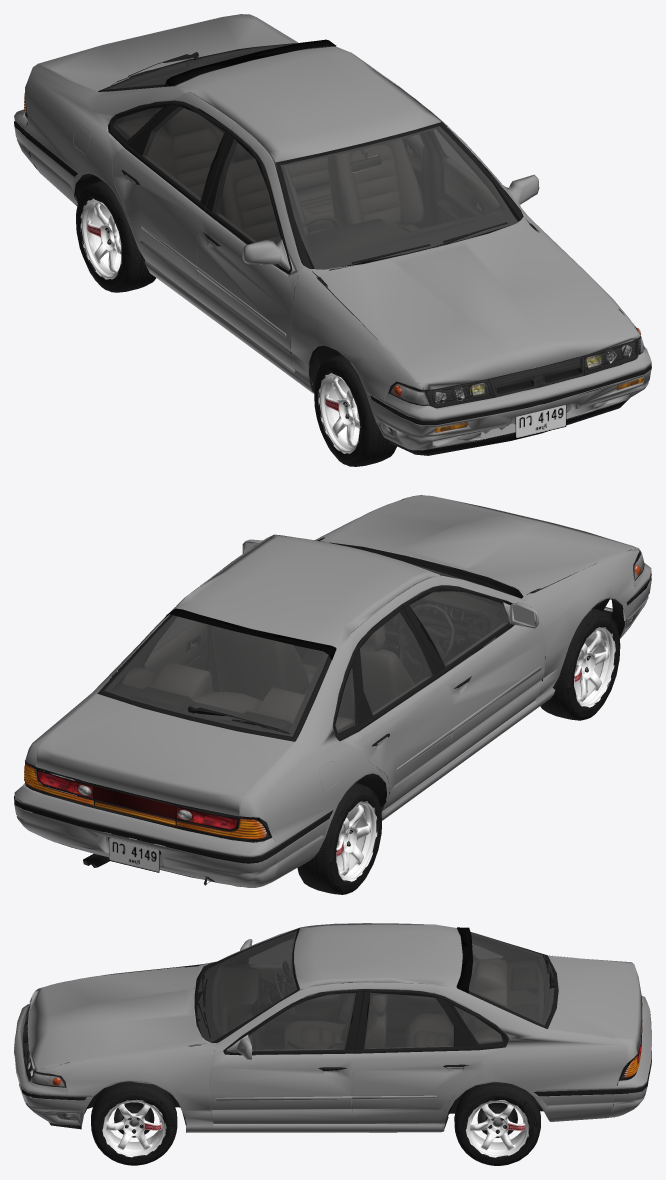
Rendered from saloon.glb.
3 views of the same model, one above another, from view 1: azimuth 30°, elevation 25°; view 2: azimuth 150°, elevation 25°; view 3: azimuth 270°, elevation 25° (orthographic). The views are drawn at different scales.
Visible parts, largest first — view 1: body_002_carpaint_0, window_rear_0_windows_glass_0, hbrake_LOD0_0_Material #7_0, misc_0_black_0, TIRE_RF_SUB004_EXT_Tyre_0, Object018_te37vsl_0, lights_front_0_Material #5_0, body_003_carbon_0, Plane007_license_plate_0; view 2: body_002_carpaint_0, window_rear_0_windows_glass_0, hbrake_LOD0_0_Material #7_0, misc_0_black_0, TIRE_RF_SUB004_EXT_Tyre_0, Object018_te37vsl_0, lights_rear_0_Material #8_0, body_003_carbon_0, Plane007_license_plate_0; view 3: body_002_carpaint_0, window_rear_0_windows_glass_0, hbrake_LOD0_0_Material #7_0, misc_0_black_0, TIRE_RF_SUB004_EXT_Tyre_0, Object018_te37vsl_0, SUPRA_DISC_RF004_supra_disc_0, body_003_carbon_0, lights_front_0_Material #5_0.
Part boxes in pixels (left/top/right/bottom): body_002_carpaint_0: left=14, top=14, right=651, bottom=450; window_rear_0_windows_glass_0: left=105, top=44, right=517, bottom=268; hbrake_LOD0_0_Material #7_0: left=111, top=46, right=505, bottom=358; misc_0_black_0: left=14, top=43, right=651, bottom=455; TIRE_RF_SUB004_EXT_Tyre_0: left=76, top=181, right=396, bottom=466; Object018_te37vsl_0: left=80, top=198, right=360, bottom=453; lights_front_0_Material #5_0: left=380, top=328, right=644, bottom=437; body_003_carbon_0: left=164, top=39, right=336, bottom=86; Plane007_license_plate_0: left=515, top=405, right=566, bottom=438; body_002_carpaint_0: left=14, top=495, right=651, bottom=887; window_rear_0_windows_glass_0: left=104, top=563, right=509, bottom=736; hbrake_LOD0_0_Material #7_0: left=111, top=573, right=508, bottom=798; misc_0_black_0: left=14, top=498, right=651, bottom=886; TIRE_RF_SUB004_EXT_Tyre_0: left=77, top=608, right=620, bottom=894; Object018_te37vsl_0: left=336, top=627, right=615, bottom=881; lights_rear_0_Material #8_0: left=24, top=764, right=267, bottom=839; body_003_carbon_0: left=164, top=608, right=336, bottom=659; Plane007_license_plate_0: left=109, top=837, right=159, bottom=872; body_002_carpaint_0: left=14, top=923, right=651, bottom=1132; window_rear_0_windows_glass_0: left=197, top=931, right=554, bottom=1051; hbrake_LOD0_0_Material #7_0: left=212, top=932, right=551, bottom=1055; misc_0_black_0: left=14, top=924, right=651, bottom=1132; TIRE_RF_SUB004_EXT_Tyre_0: left=91, top=1083, right=540, bottom=1165; Object018_te37vsl_0: left=102, top=1100, right=529, bottom=1157; SUPRA_DISC_RF004_supra_disc_0: left=114, top=1102, right=517, bottom=1137; body_003_carbon_0: left=457, top=927, right=472, bottom=993; lights_front_0_Material #5_0: left=29, top=996, right=77, bottom=1120.
Size of the model in its own units: 0.0486 by 0.0353 by 0.1193.
16 materials, 7 textured.
